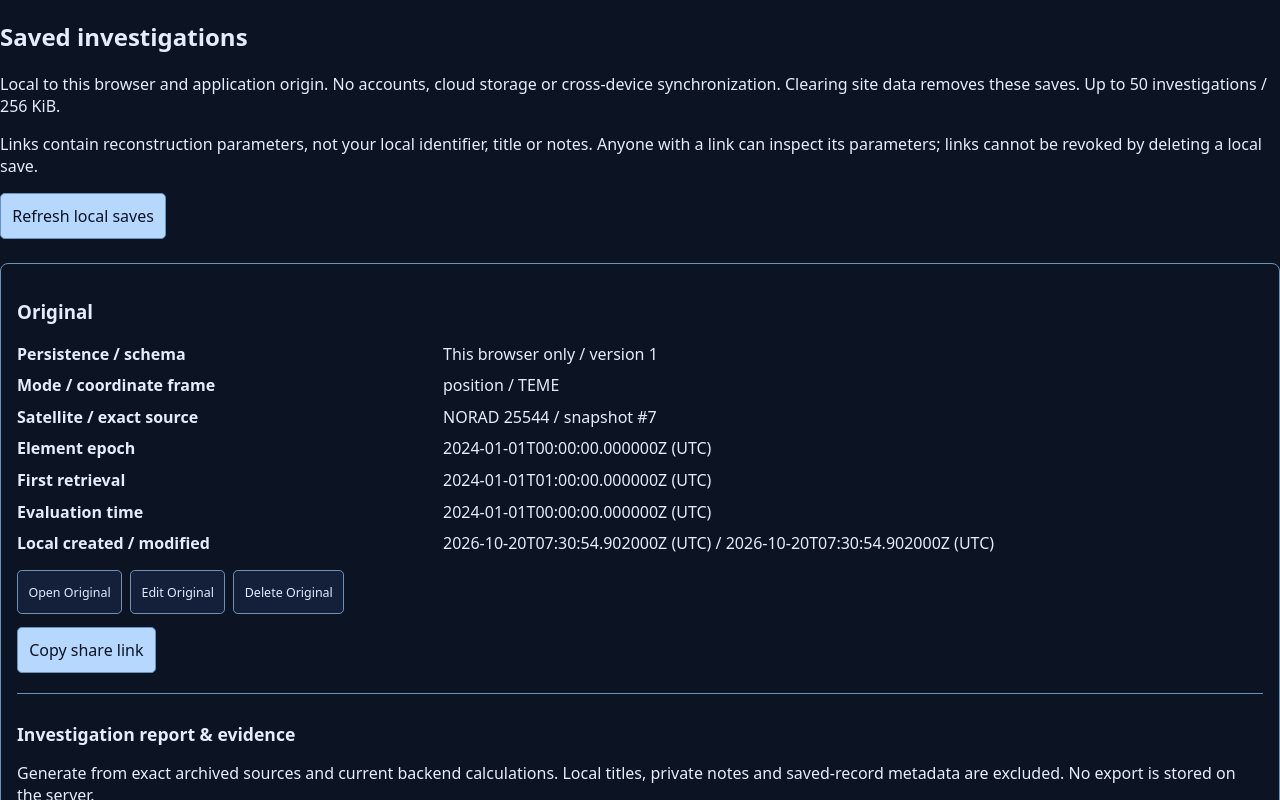
Test case: renames and updates evaluation parameters, then confirms local deletion
The image size is (1280, 800).
Click the button "Edit Original".
click(178, 592)  # box x1=130 y1=570 x2=225 y2=614
(page scrolled)
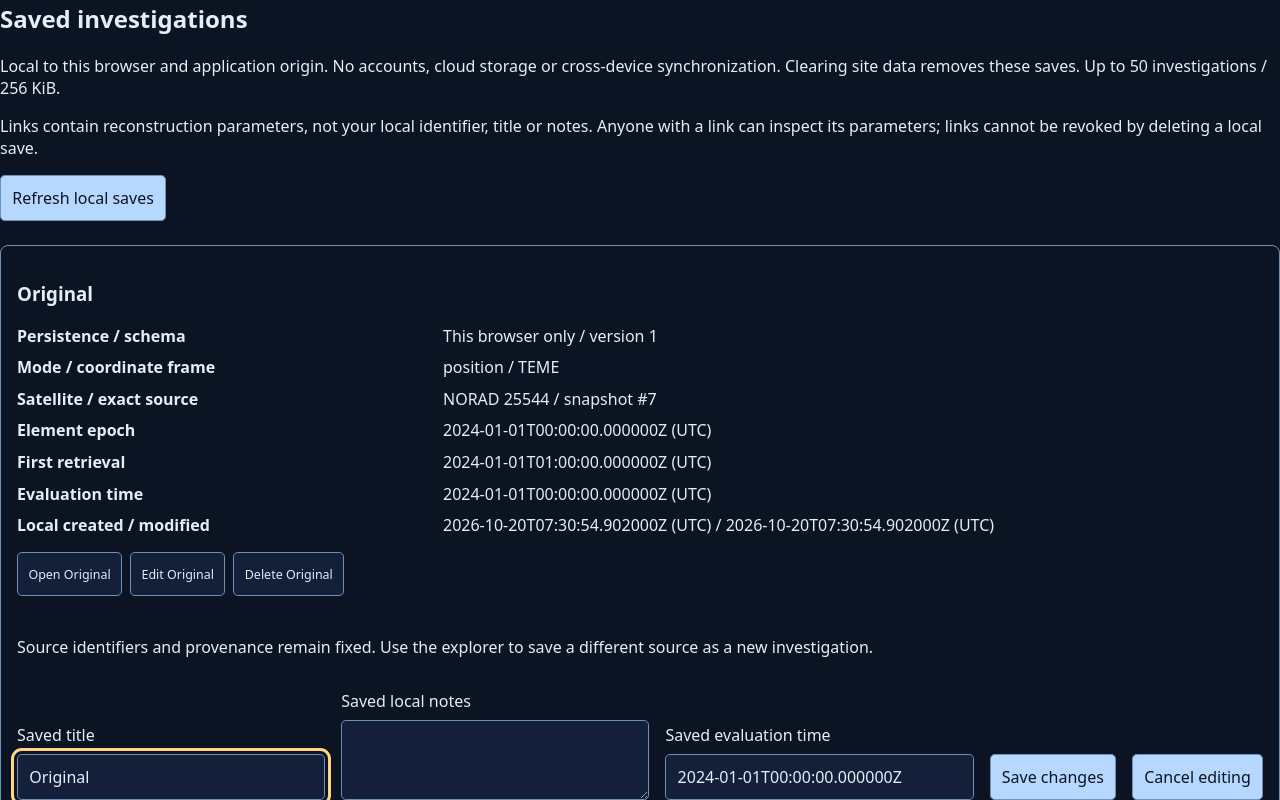
Replace the text in the field labelled "Saved title" with "Renamed" at [171, 777], box x1=17 y1=754 x2=325 y2=799
Replace the text in the field labelled "Saved evaluation time" with "2024-01-01T00:05:00Z" at [820, 777], box x1=665 y1=754 x2=974 y2=799
Click the button "Save changes".
click(1053, 777)  # box x1=990 y1=754 x2=1116 y2=799
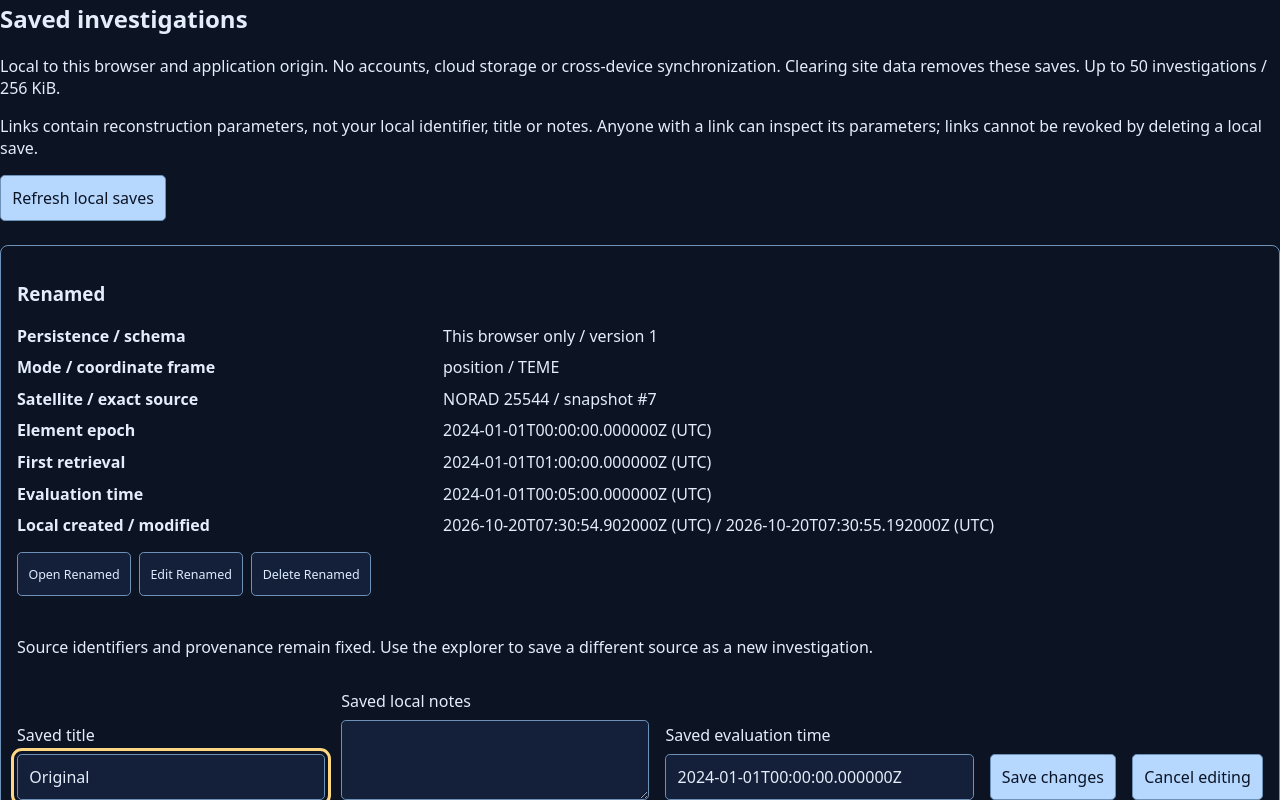
Now the heading "Renamed" is shown, box x1=17 y1=281 x2=105 y2=306
Click the button "Delete Renamed".
click(311, 574)  # box x1=251 y1=552 x2=371 y2=596
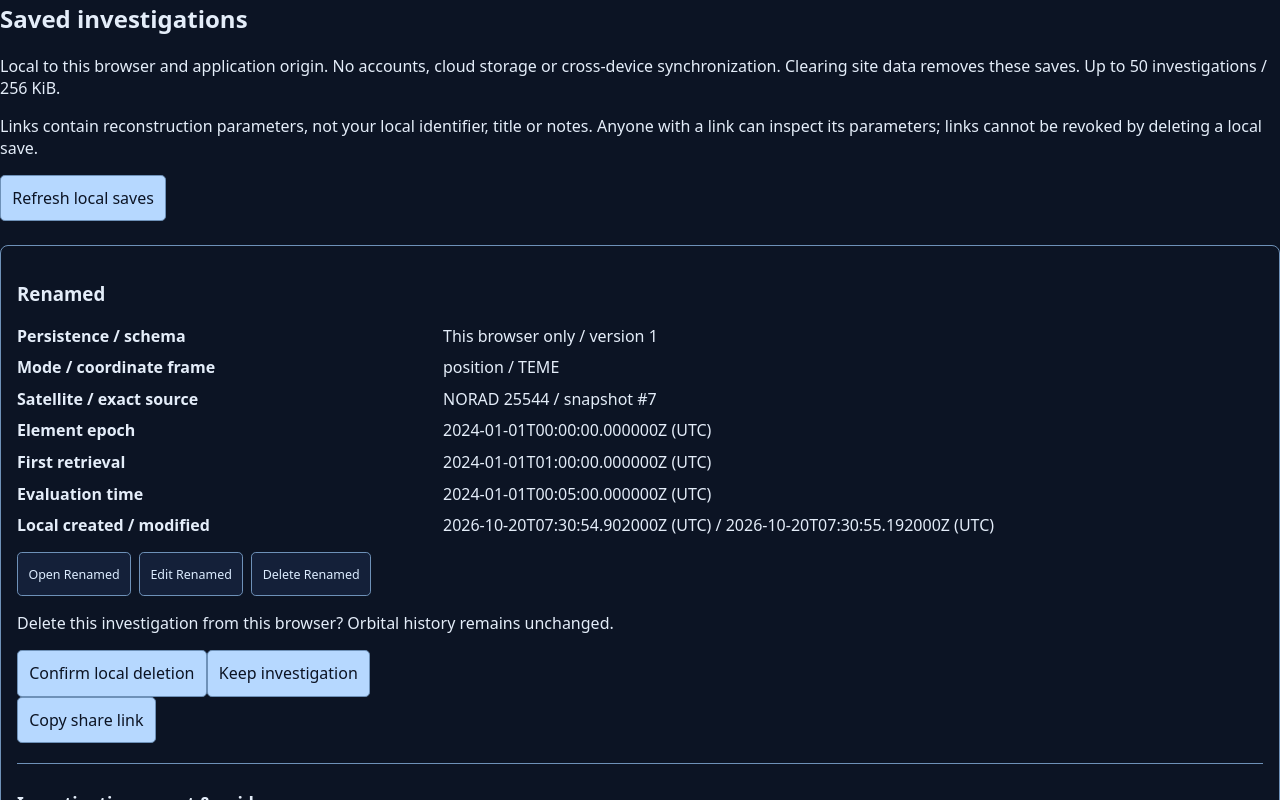
Click the button "Keep investigation".
click(288, 673)  # box x1=207 y1=650 x2=370 y2=697
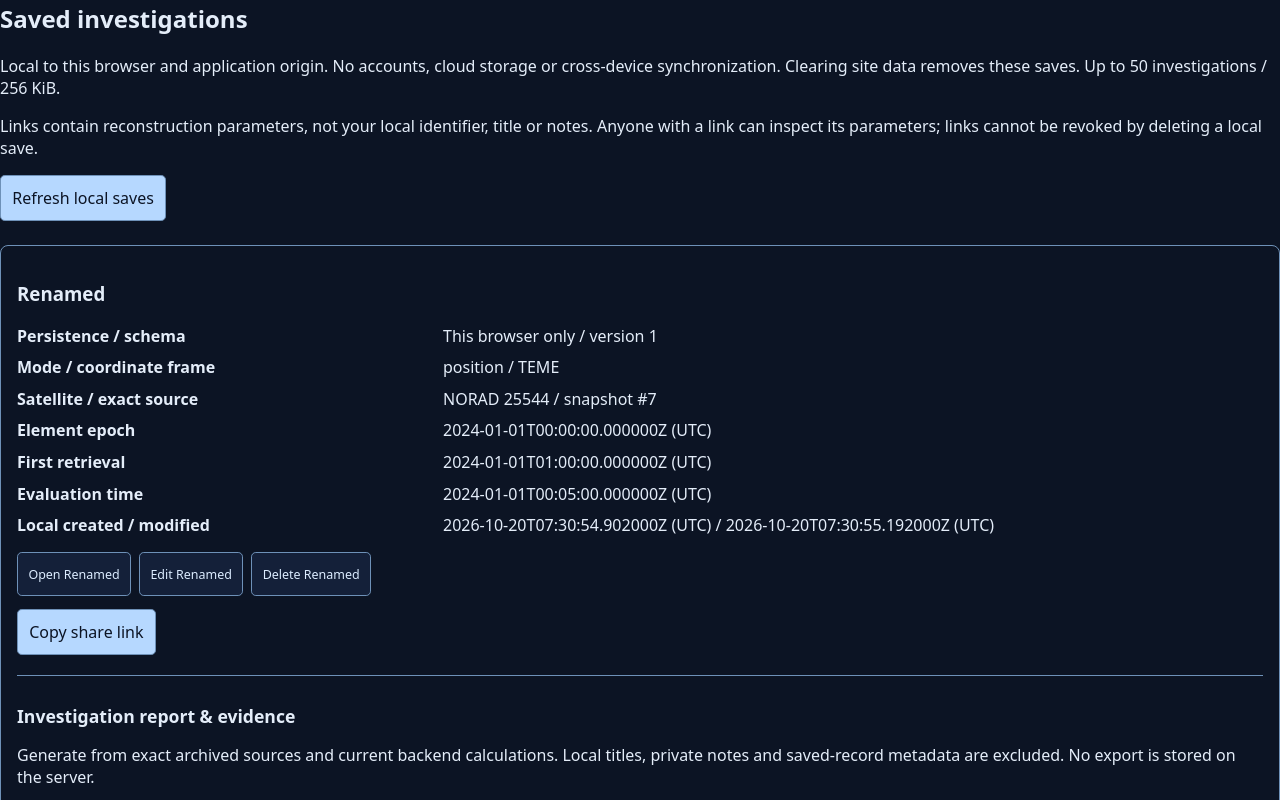
Now the button "Confirm local deletion" is gone
Click the button "Delete Renamed".
click(311, 574)  # box x1=251 y1=552 x2=371 y2=596
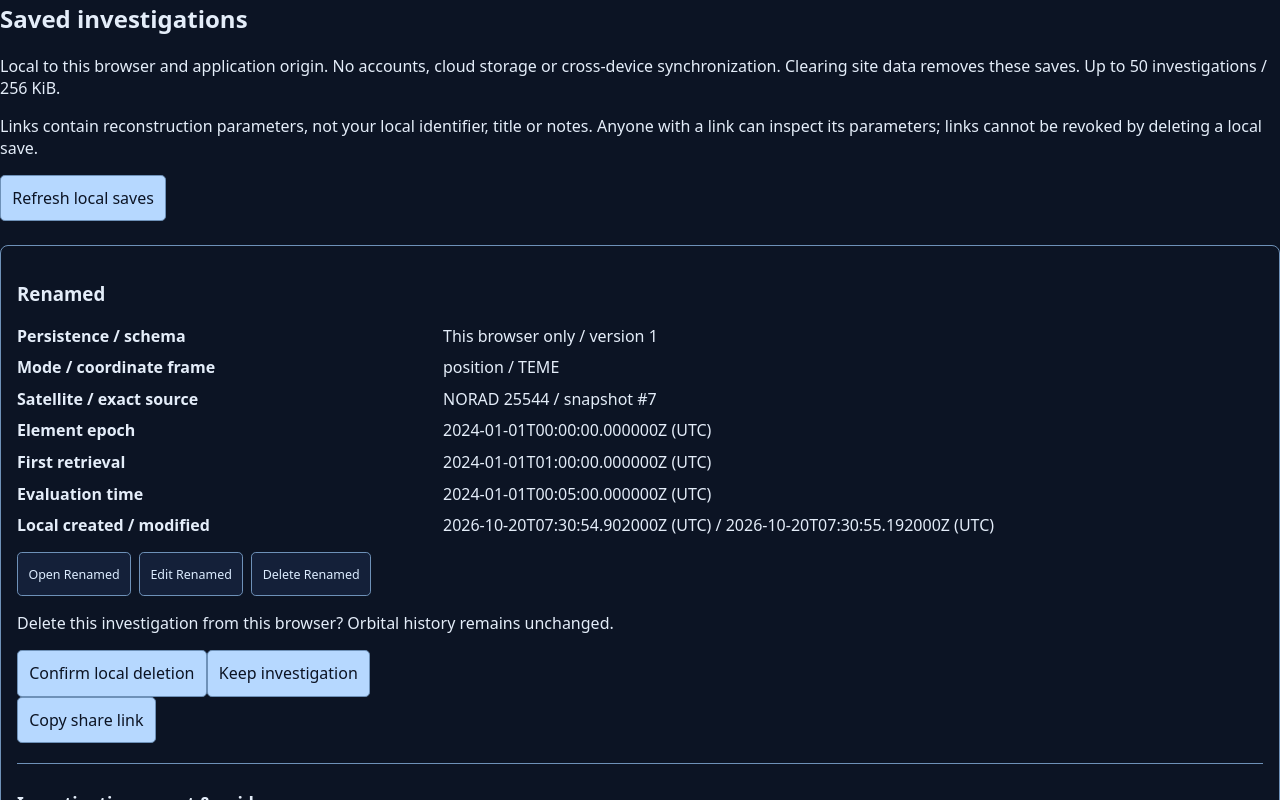
Click the button "Confirm local deletion".
click(112, 673)  # box x1=17 y1=650 x2=207 y2=697
(page scrolled)
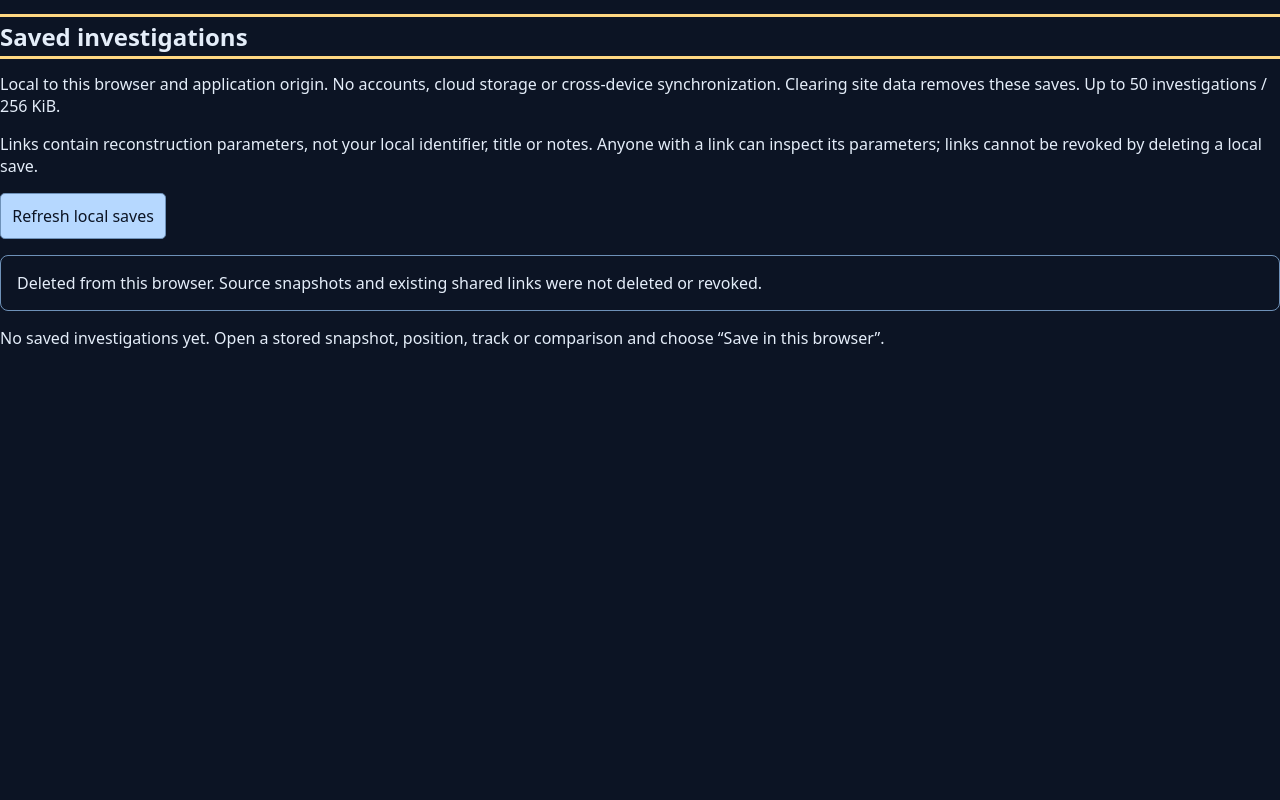
Now the text "Deleted from this browser" is shown, box x1=17 y1=272 x2=762 y2=294
